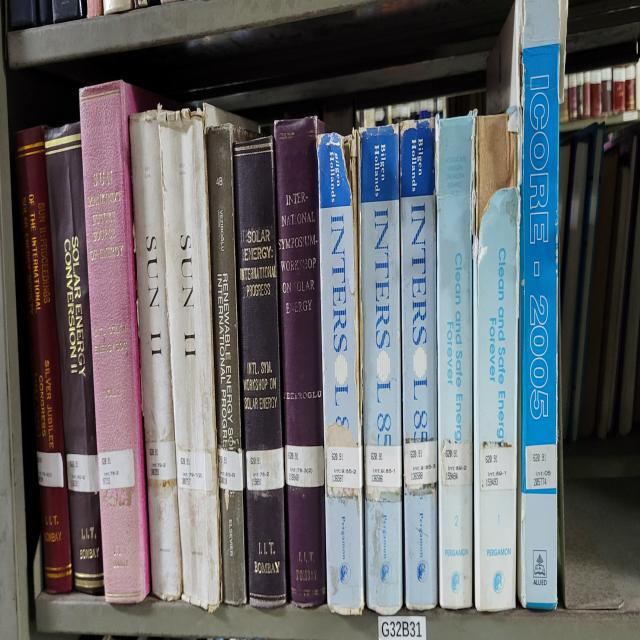Book: (159, 108, 221, 611), (45, 122, 104, 593), (16, 127, 72, 593), (274, 116, 326, 606), (518, 3, 560, 609), (130, 111, 181, 601), (234, 138, 286, 606), (474, 116, 519, 611), (318, 133, 364, 614), (206, 124, 249, 606), (360, 127, 402, 614), (435, 111, 475, 609), (400, 119, 438, 609)
Label: (246, 446, 284, 490), (285, 446, 325, 487), (480, 446, 516, 490), (404, 441, 438, 487), (326, 446, 361, 490), (525, 444, 558, 490), (365, 446, 401, 487), (441, 441, 472, 484), (146, 441, 176, 482), (176, 449, 206, 490), (66, 455, 99, 492), (219, 449, 244, 490), (38, 452, 64, 487)
